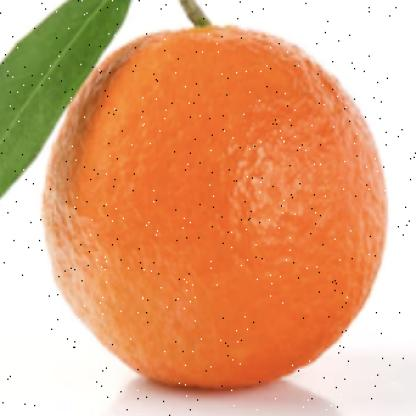fresh: (42, 27, 389, 393)
